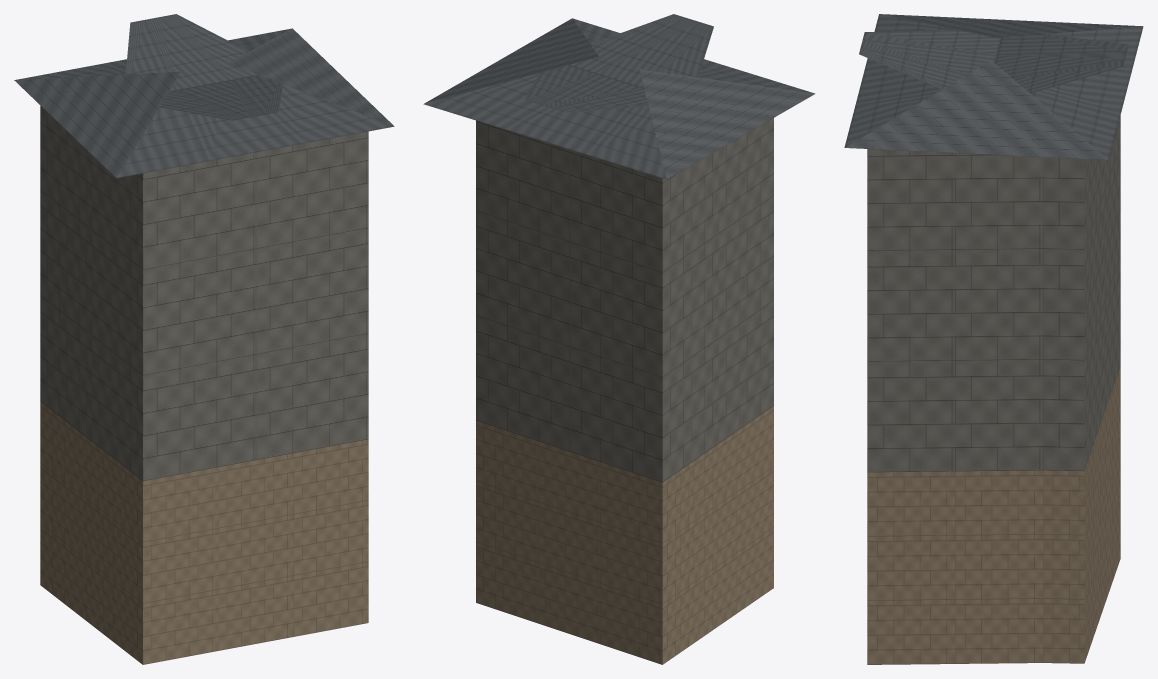
File: bld_c44_-39_416.gltf
3 views of the same model, side by side, from view 1: azimuth 30°, elevation 25°; view 2: azimuth 150°, elevation 25°; view 3: azimuth 270°, elevation 25° (orthographic). The views are drawn at different scales.
Parts seen in each view (by area): view 1: bld_c44_-39_416; view 2: bld_c44_-39_416; view 3: bld_c44_-39_416.
Part boxes in pixels (x1,y1,x2,y2): bld_c44_-39_416: (14,14,394,664); bld_c44_-39_416: (423,14,815,664); bld_c44_-39_416: (844,14,1143,664).
Bounding box in the file's own units: 8.3 × 14.9 × 7.18.
Materials: 3 (3 with a texture image).
